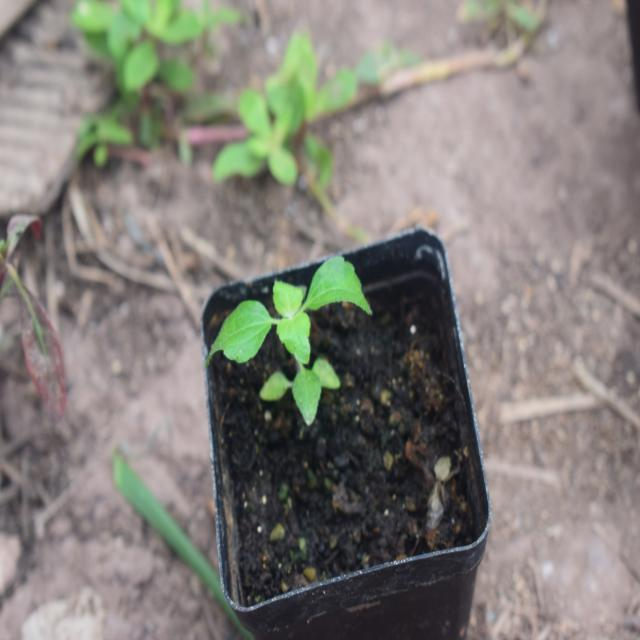billygoat_weed: (200, 213, 362, 434)
